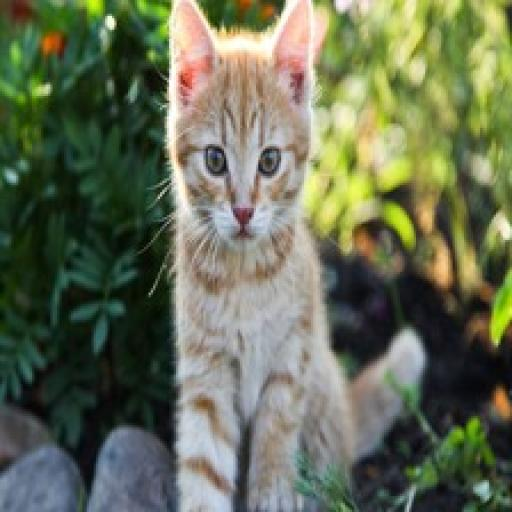cat: (150, 0, 432, 512)
